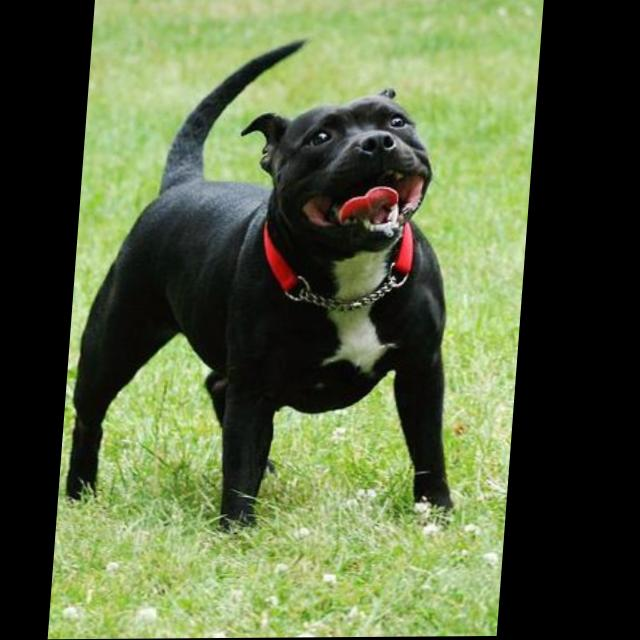staffford: (72, 37, 493, 538)
